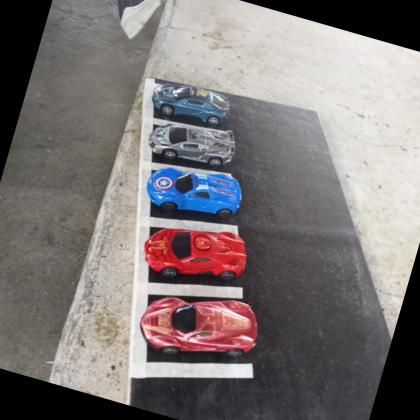Car: (134, 278, 266, 374), (139, 210, 253, 294), (142, 154, 250, 226), (144, 110, 242, 174), (148, 75, 234, 129)
